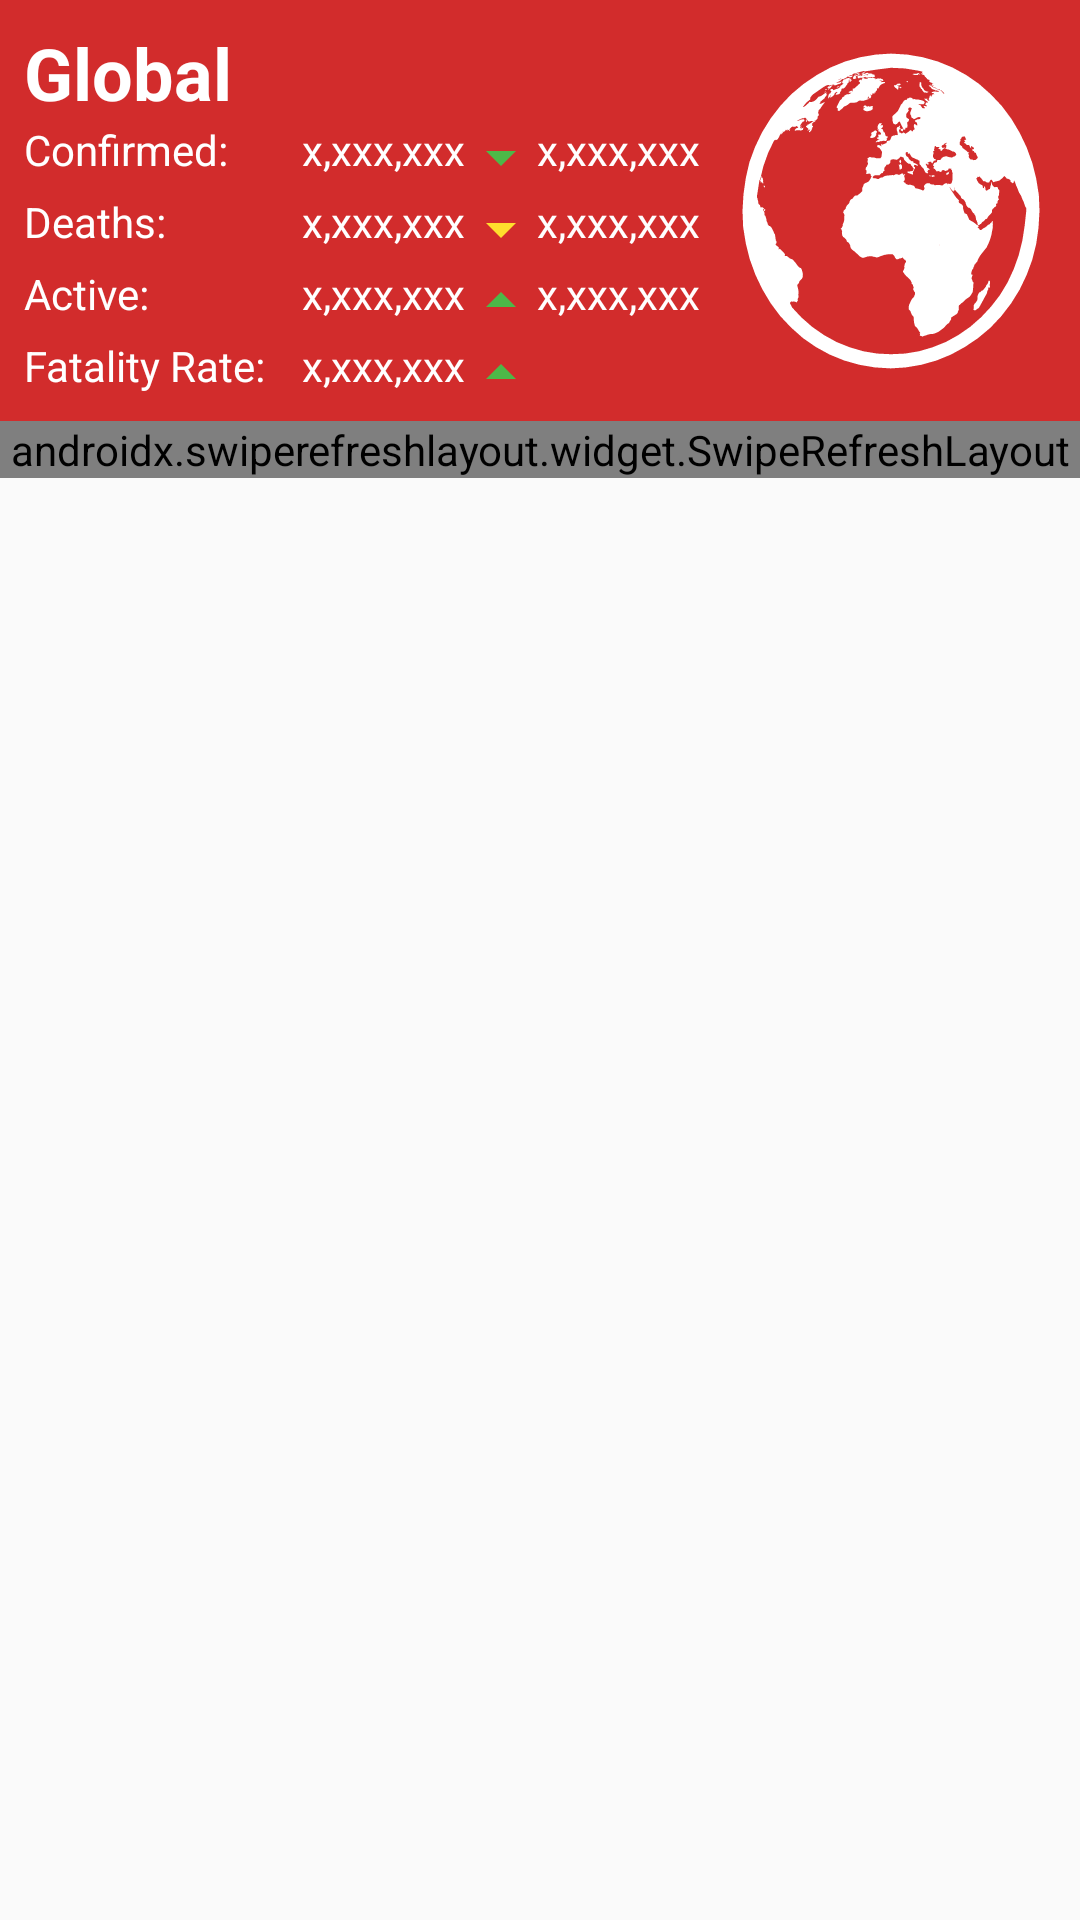

Screen size 1080×1920. Icon name, then its box in pixels as bbox(x1, y1, x2, y2):
arrow drop down: bbox(486, 151, 516, 166), bbox(486, 223, 516, 238)
arrow drop up: bbox(486, 292, 516, 307), bbox(486, 364, 516, 379)
Globe: bbox(742, 53, 1040, 369)
